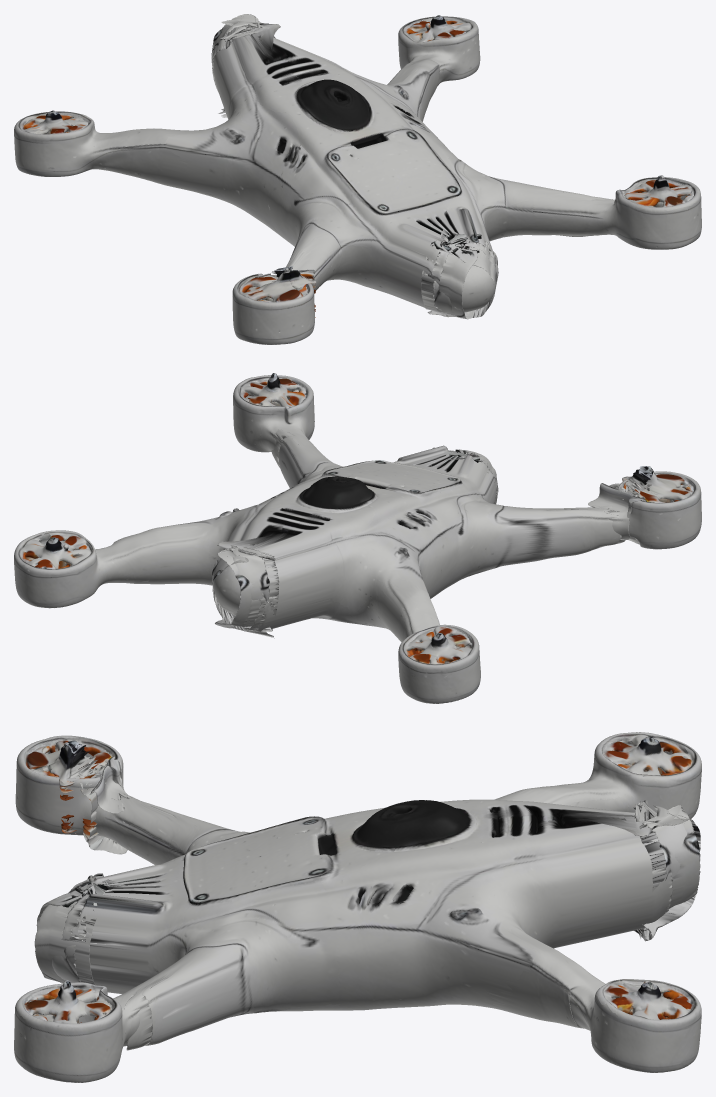
The model's file is drone.glb.
The picture shows the model from 3 angles, top to bottom: view 1: azimuth 30°, elevation 25°; view 2: azimuth 150°, elevation 25°; view 3: azimuth 270°, elevation 25°; orthographic projection. The views are drawn at different scales.
Parts seen in each view (by area): view 1: node0; view 2: node0; view 3: node0.
Boxes of the visible parts, x1=… form: node0: x1=14, y1=14, x2=701, y2=344; node0: x1=14, y1=373, x2=701, y2=703; node0: x1=14, y1=732, x2=701, y2=1082.
Bounding box in the file's own units: 310 × 86.17 × 306.
Materials: 1 (1 with a texture image).
